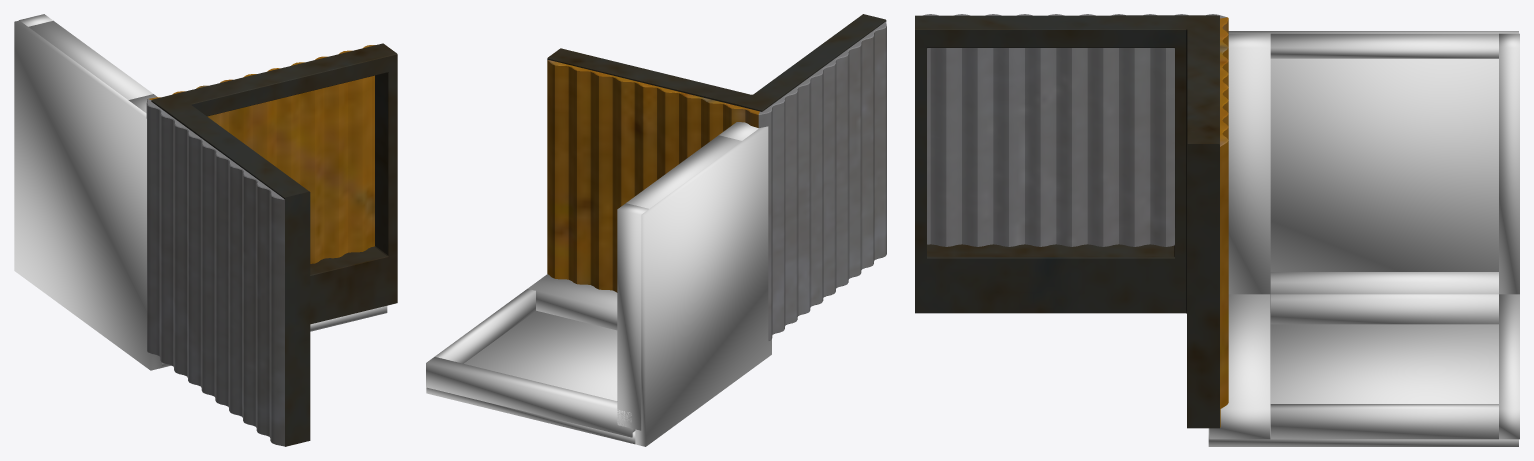
Rendered from SM_Wall_Corner_MidHeight.fbx.
3 views of the same model, side by side, from view 1: azimuth 30°, elevation 25°; view 2: azimuth 150°, elevation 25°; view 3: azimuth 270°, elevation 25° (orthographic). The views are drawn at different scales.
Parts seen in each view (by area): view 1: SM_Wall_Corner_MidHeight, SM_Wall_Corner_MidHeight_ConvexHulls; view 2: SM_Wall_Corner_MidHeight_ConvexHulls, SM_Wall_Corner_MidHeight; view 3: SM_Wall_Corner_MidHeight_ConvexHulls, SM_Wall_Corner_MidHeight.
Boxes of the visible parts, x1,y1,x2,y2 form: SM_Wall_Corner_MidHeight: (146,43,397,446); SM_Wall_Corner_MidHeight_ConvexHulls: (14,14,387,370); SM_Wall_Corner_MidHeight_ConvexHulls: (426,122,771,446); SM_Wall_Corner_MidHeight: (547,14,886,340); SM_Wall_Corner_MidHeight_ConvexHulls: (1208,31,1519,446); SM_Wall_Corner_MidHeight: (915,14,1228,428).
Bounding box in the file's own units: 1.5 × 1.6 × 2.89.
